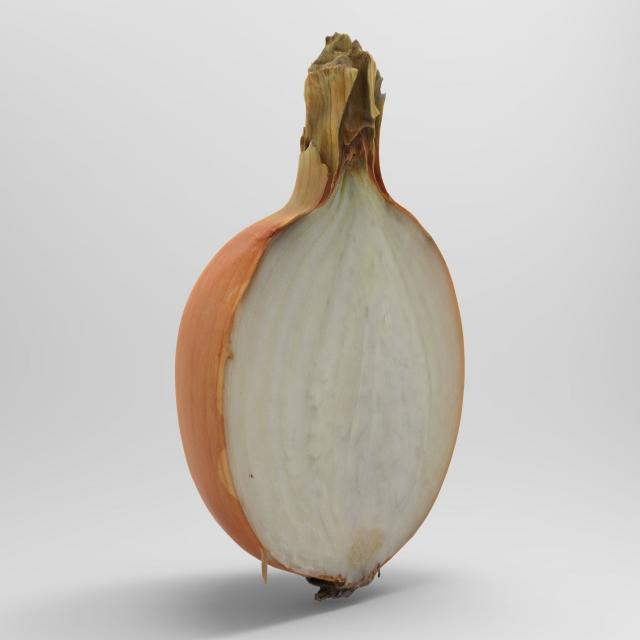onion: (172, 26, 467, 599)
